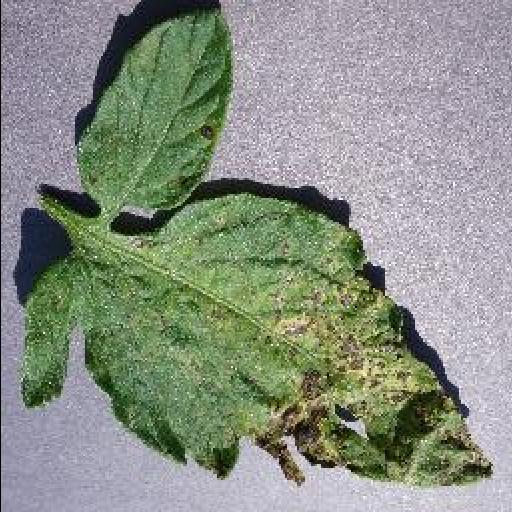disease_tomato: (18, 194, 496, 492)
